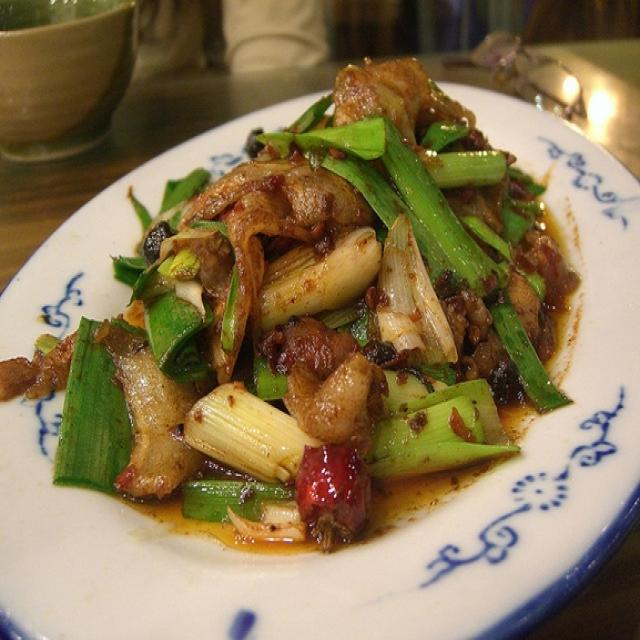猪肉菜式: (20, 40, 613, 575)
